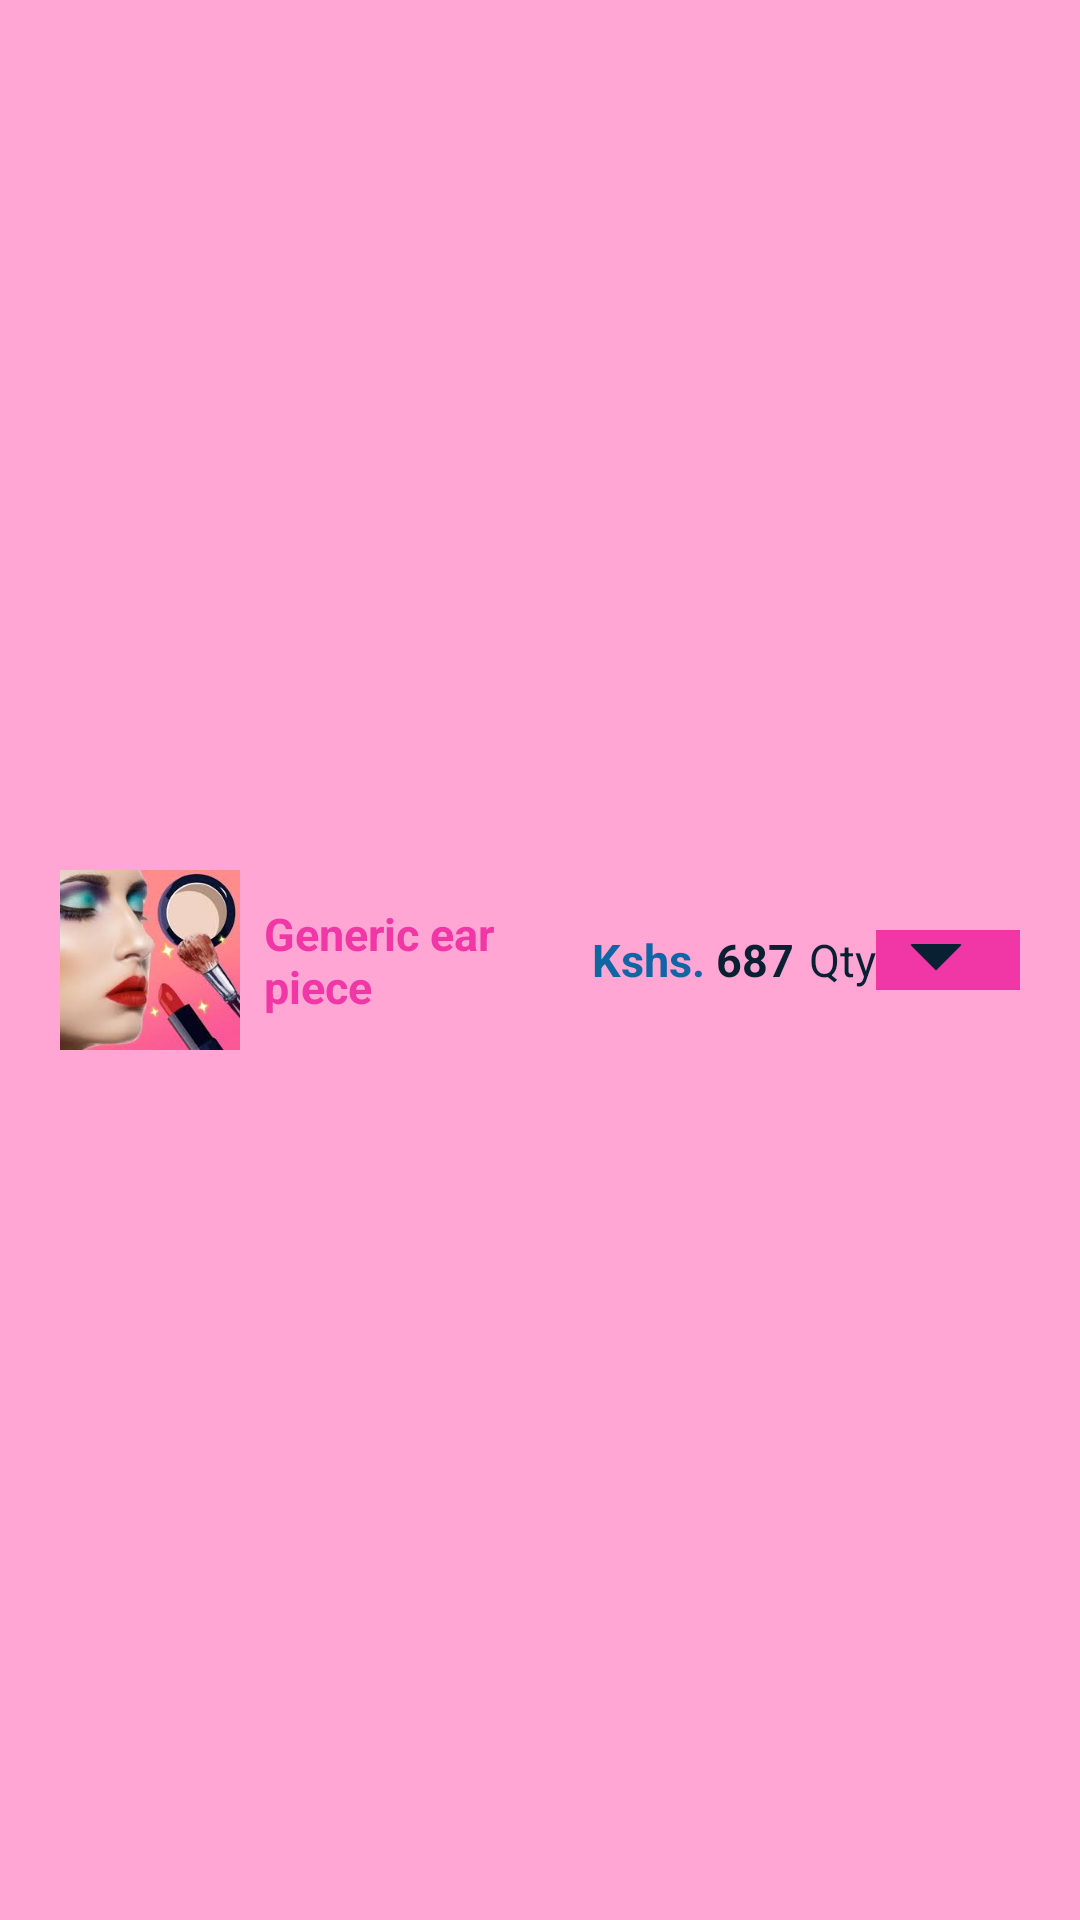

Icon bounding boxes for this 1080x1920 phone screenshot, format (x1, y1, x2, y2):
makeup: (60, 870, 240, 1050)
